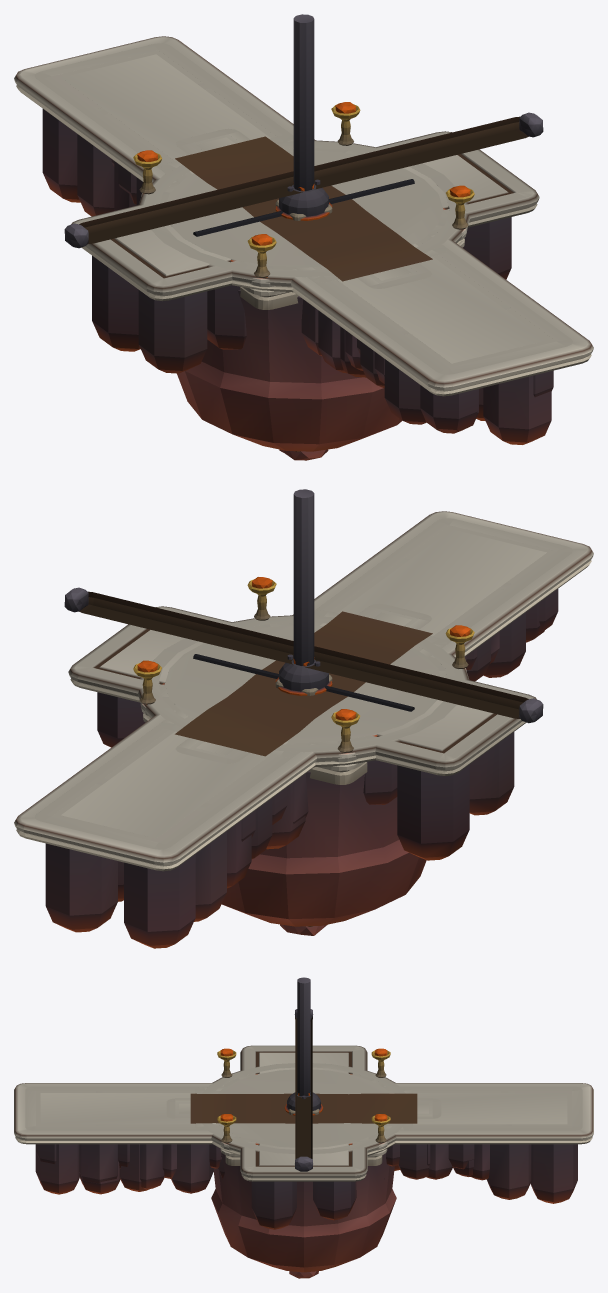
The model's file is volcano-3-BRhi3-ql.glb.
The picture shows the model from 3 angles, top to bottom: view 1: azimuth 30°, elevation 25°; view 2: azimuth 150°, elevation 25°; view 3: azimuth 270°, elevation 25°; orthographic projection. The views are drawn at different scales.
Visible parts, largest first — view 1: block_8x2x40#1, disc_16x1.5#0, block_9x2x41#1, block_21.5x2x9#1, beam_5x1.5x16_plank#0, mount_12.5#0, pad_12x2x12#0, press_4x6x9#0, barHub_13x1.2#0, block_4x18x20_ruin#1, block_8x2x30_grate#1, block_8x2x16#0; view 2: block_9x2x41#1, disc_16x1.5#0, block_8x2x40#1, block_21.5x2x9#1, beam_5x1.5x16_plank#0, mount_12.5#0, pad_12x2x12#0, press_4x6x9#0, barHub_13x1.2#0, block_8x2x30_grate#1, block_4x18x20_ruin#1, block_8x2x16#0; view 3: block_9x2x41#1, disc_16x1.5#0, block_8x2x40#1, block_21.5x2x9#1, beam_5x1.5x16_plank#0, block_8x2x30_grate#1, pad_12x2x12#0, mount_12.5#0, press_4x6x9#0, block_4x18x20_ruin#1, block_8x2x16#0.
Boxes of the visible parts, bbox=[...] form: block_8x2x40#1: bbox=[35, 43, 572, 444]; disc_16x1.5#0: bbox=[138, 140, 469, 451]; block_9x2x41#1: bbox=[14, 36, 593, 432]; block_21.5x2x9#1: bbox=[71, 131, 539, 373]; beam_5x1.5x16_plank#0: bbox=[175, 136, 432, 281]; mount_12.5#0: bbox=[64, 112, 543, 248]; pad_12x2x12#0: bbox=[133, 102, 474, 309]; press_4x6x9#0: bbox=[293, 14, 314, 191]; barHub_13x1.2#0: bbox=[193, 179, 414, 236]; block_4x18x20_ruin#1: bbox=[176, 128, 431, 289]; block_8x2x30_grate#1: bbox=[96, 83, 511, 383]; block_8x2x16#0: bbox=[160, 135, 447, 282]; block_9x2x41#1: bbox=[14, 511, 593, 948]; disc_16x1.5#0: bbox=[138, 615, 469, 926]; block_8x2x40#1: bbox=[35, 518, 572, 888]; block_21.5x2x9#1: bbox=[68, 606, 536, 860]; beam_5x1.5x16_plank#0: bbox=[175, 611, 432, 756]; mount_12.5#0: bbox=[64, 587, 543, 723]; pad_12x2x12#0: bbox=[133, 577, 474, 784]; press_4x6x9#0: bbox=[293, 489, 314, 665]; barHub_13x1.2#0: bbox=[193, 654, 414, 711]; block_8x2x30_grate#1: bbox=[96, 558, 511, 858]; block_4x18x20_ruin#1: bbox=[176, 603, 431, 763]; block_8x2x16#0: bbox=[160, 610, 447, 823]; block_9x2x41#1: bbox=[14, 1083, 593, 1203]; disc_16x1.5#0: bbox=[202, 1063, 405, 1272]; block_8x2x40#1: bbox=[25, 1086, 582, 1194]; block_21.5x2x9#1: bbox=[240, 1045, 367, 1229]; beam_5x1.5x16_plank#0: bbox=[190, 1093, 417, 1123]; block_8x2x30_grate#1: bbox=[96, 1091, 511, 1180]; pad_12x2x12#0: bbox=[217, 1048, 390, 1165]; mount_12.5#0: bbox=[294, 1009, 313, 1171]; press_4x6x9#0: bbox=[297, 977, 310, 1096]; block_4x18x20_ruin#1: bbox=[166, 1098, 441, 1118]; block_8x2x16#0: bbox=[195, 1086, 412, 1130].
Bounding box in the file's own units: 25.9 × 23.03 × 41.
